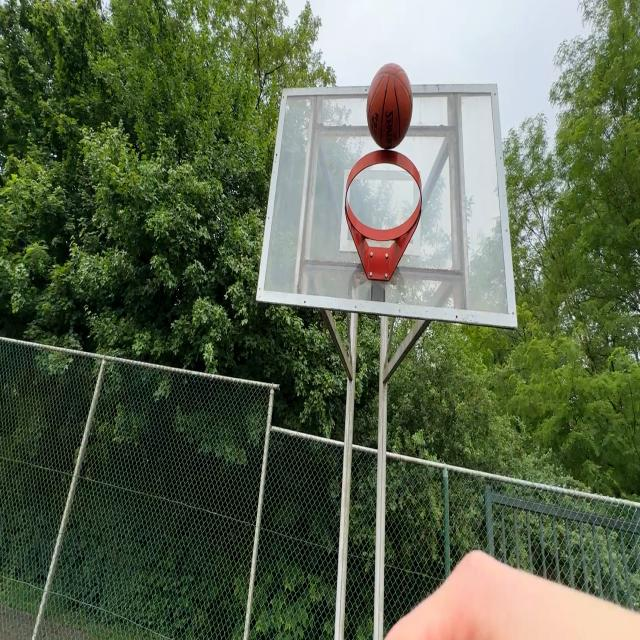Basketball: (366, 64, 411, 151)
